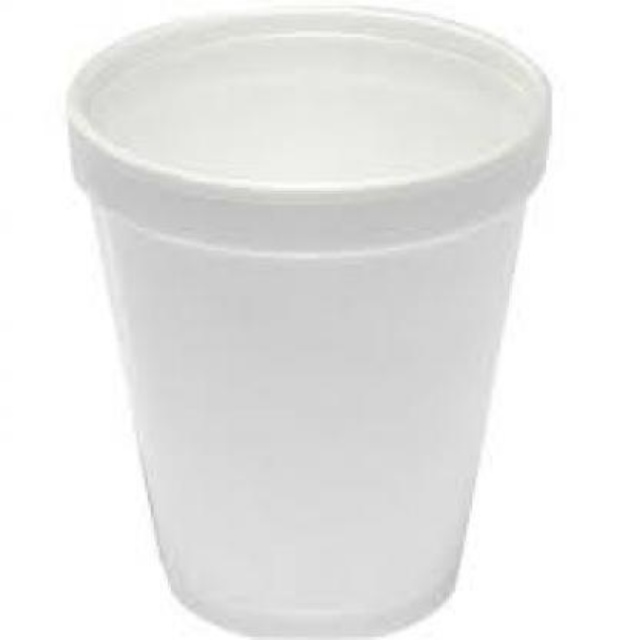trash: (68, 9, 549, 634)
